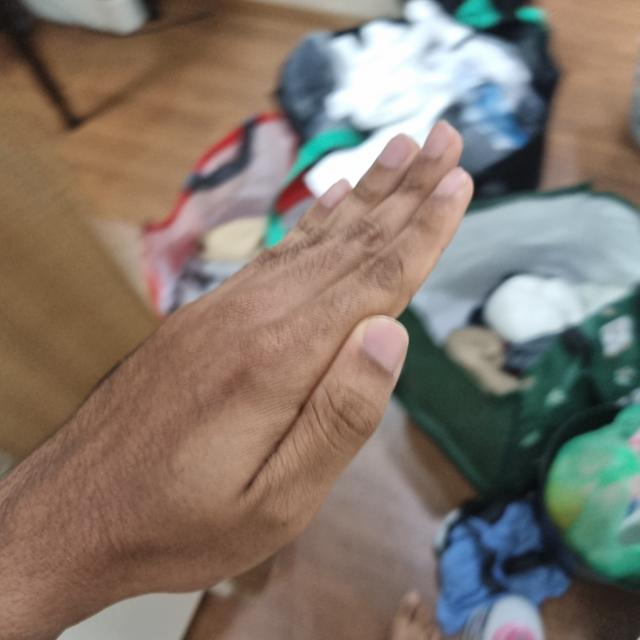Paper: (17, 120, 474, 595)
